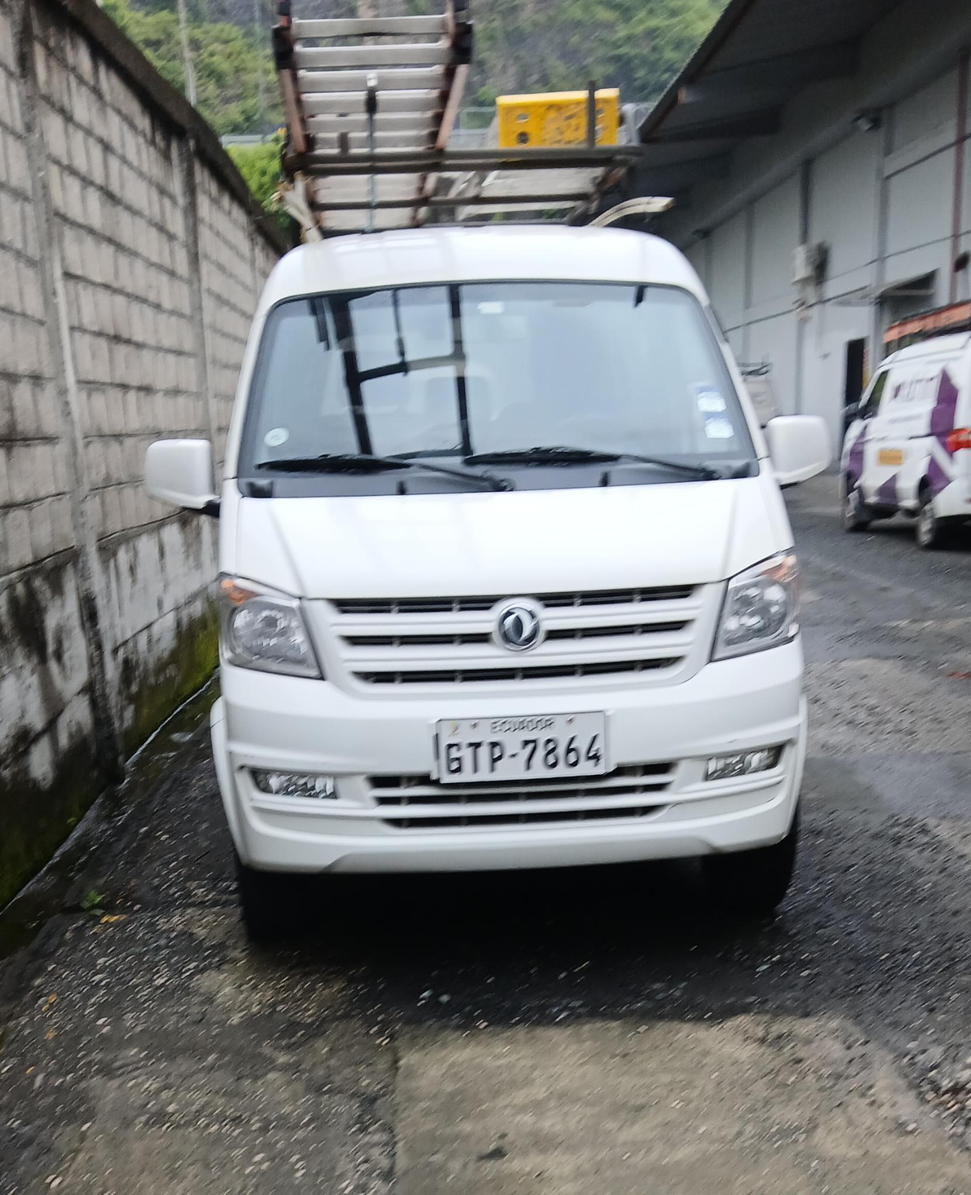license_plate: (436, 712, 611, 782)
